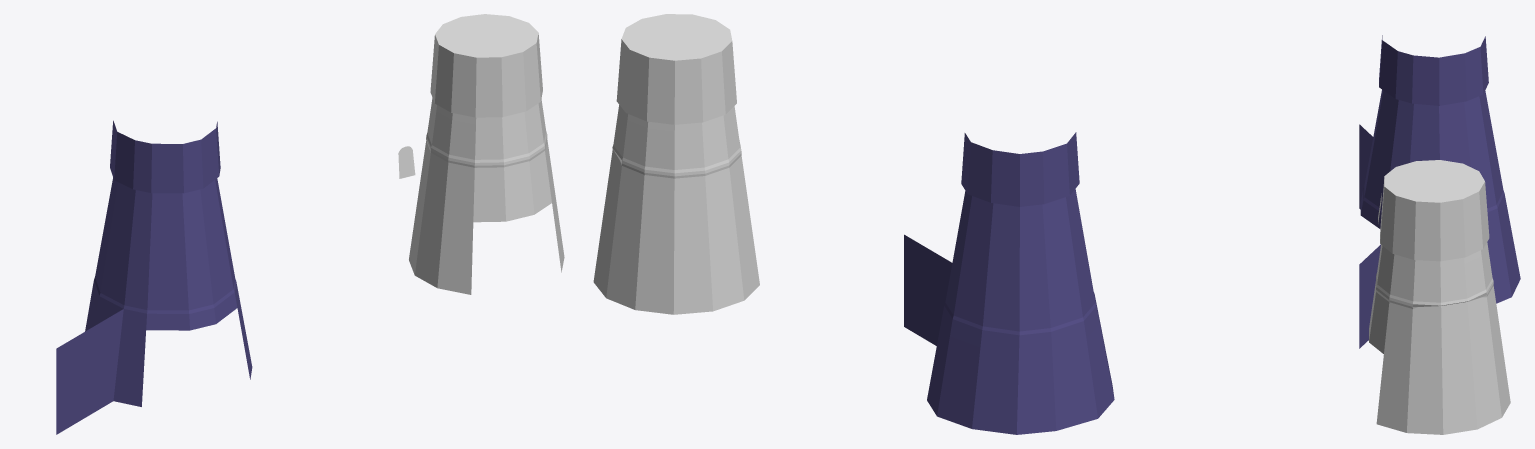
The model's file is moulin.glb.
3 views of the same model, side by side, from view 1: azimuth 30°, elevation 25°; view 2: azimuth 150°, elevation 25°; view 3: azimuth 270°, elevation 25° (orthographic). The views are drawn at different scales.
Visible parts, largest first — view 1: Cylinder.001, x; view 2: Cylinder.001, x; view 3: x, Cylinder.001.
Part boxes in pixels (x1,y1,x2,y2): Cylinder.001: (56, 120, 252, 434); x: (409, 14, 564, 294); Cylinder.001: (904, 132, 1114, 434); x: (593, 14, 759, 314); x: (1369, 160, 1510, 434); Cylinder.001: (1359, 35, 1520, 348).
Size of the model in its own units: 11.19 by 5.12 by 5.04.
